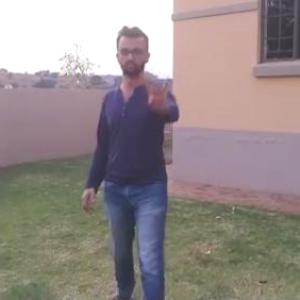takeoff-hand: (138, 62, 181, 114)
